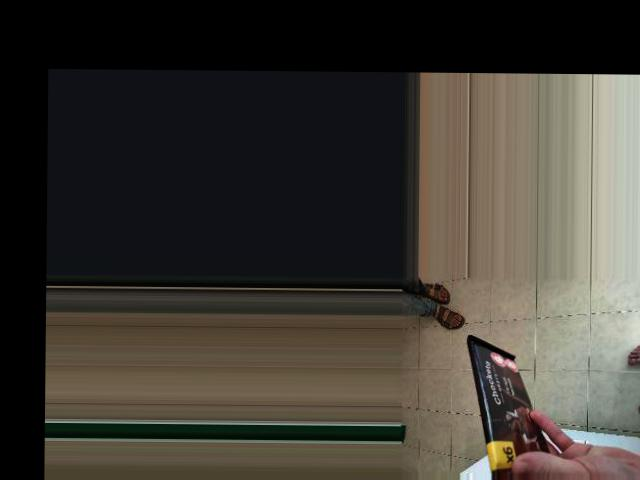chocolate: (454, 303, 597, 418)
